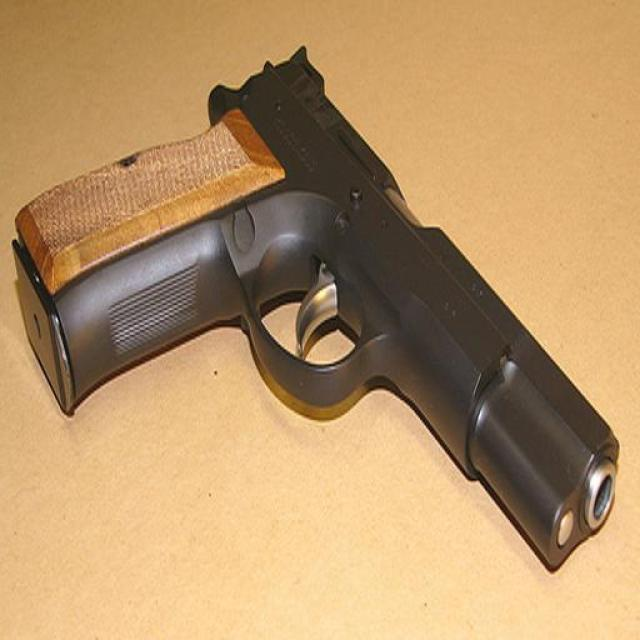pistol: (11, 43, 619, 561)
